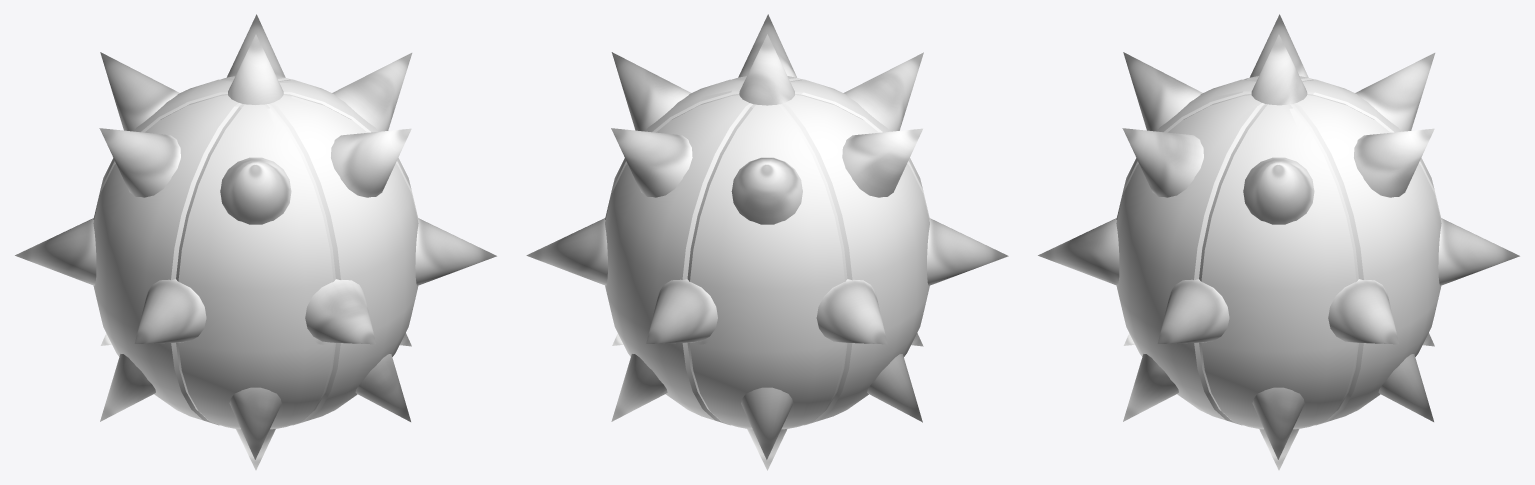
File: Phase_Two.fbx
3 renders of one model, left to right at view 1: azimuth 30°, elevation 25°; view 2: azimuth 150°, elevation 25°; view 3: azimuth 270°, elevation 25°, orthographic.
Visible parts, largest first — view 1: SM_Baren_Weapon_2; view 2: SM_Baren_Weapon_2; view 3: SM_Baren_Weapon_2.
Part boxes in pixels (x1,y1,x2,y2): SM_Baren_Weapon_2: (15,14,496,470); SM_Baren_Weapon_2: (526,14,1008,470); SM_Baren_Weapon_2: (1038,14,1519,470).
Size of the model in its own units: 428 by 492 by 493.
1 material, 1 textured.
